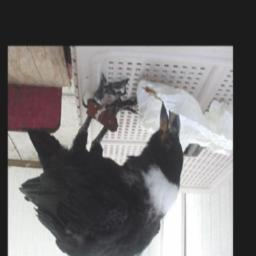Crow: (19, 73, 187, 256)
